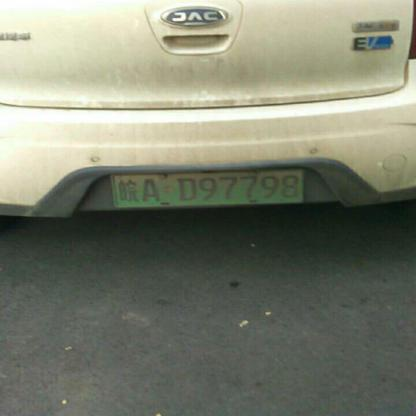lp: (114, 168, 304, 208)
